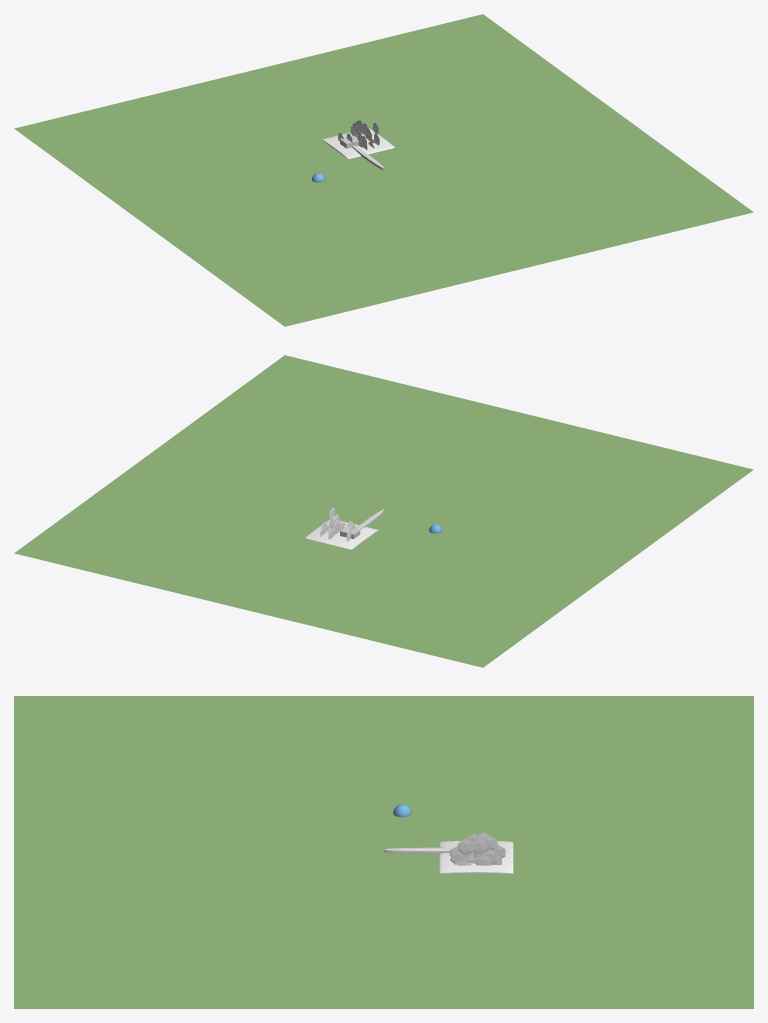
The model's file is eolienne_vitesse_v1.glb.
The picture shows the model from 3 angles, top to bottom: view 1: azimuth 30°, elevation 25°; view 2: azimuth 150°, elevation 25°; view 3: azimuth 270°, elevation 25°; orthographic projection. The views are drawn at different scales.
Parts seen in each view (by area): view 1: ground, rotor_assembly; view 2: ground, rotor_assembly; view 3: ground, rotor_assembly.
Part boxes in pixels (bbox=[...]): ground: bbox=[14, 14, 753, 326]; rotor_assembly: bbox=[321, 128, 394, 159]; ground: bbox=[14, 355, 753, 667]; rotor_assembly: bbox=[305, 520, 378, 549]; ground: bbox=[14, 696, 753, 1008]; rotor_assembly: bbox=[439, 841, 513, 873].
Size of the model in its own units: 40 by 3.37 by 40.
